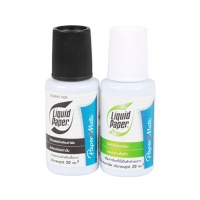Correction_fluid: (97, 22, 156, 179), (42, 22, 98, 181)
